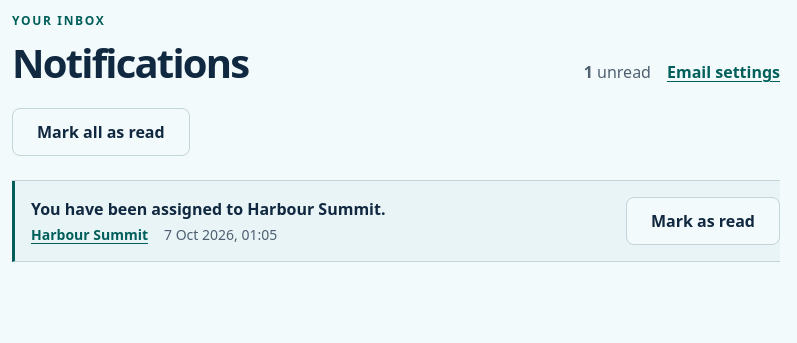
Test: AC2 - marking notifications read › [QA-SPL-101-023] a refused mark-read keeps the notice unread and says so
Click the button "Mark as read". click: (703, 221)
box: x1=626 y1=197 x2=780 y2=245
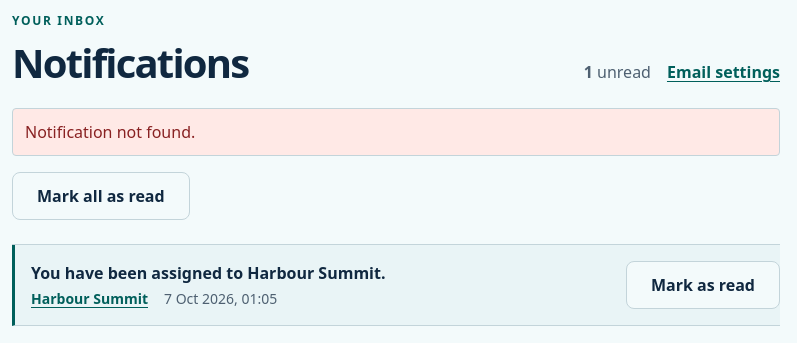
Expected: the message "1 unread" is shown, x1=584 y1=61 x2=651 y2=83
Result: the message "Notification not found." is shown at x1=12 y1=108 x2=780 y2=156
